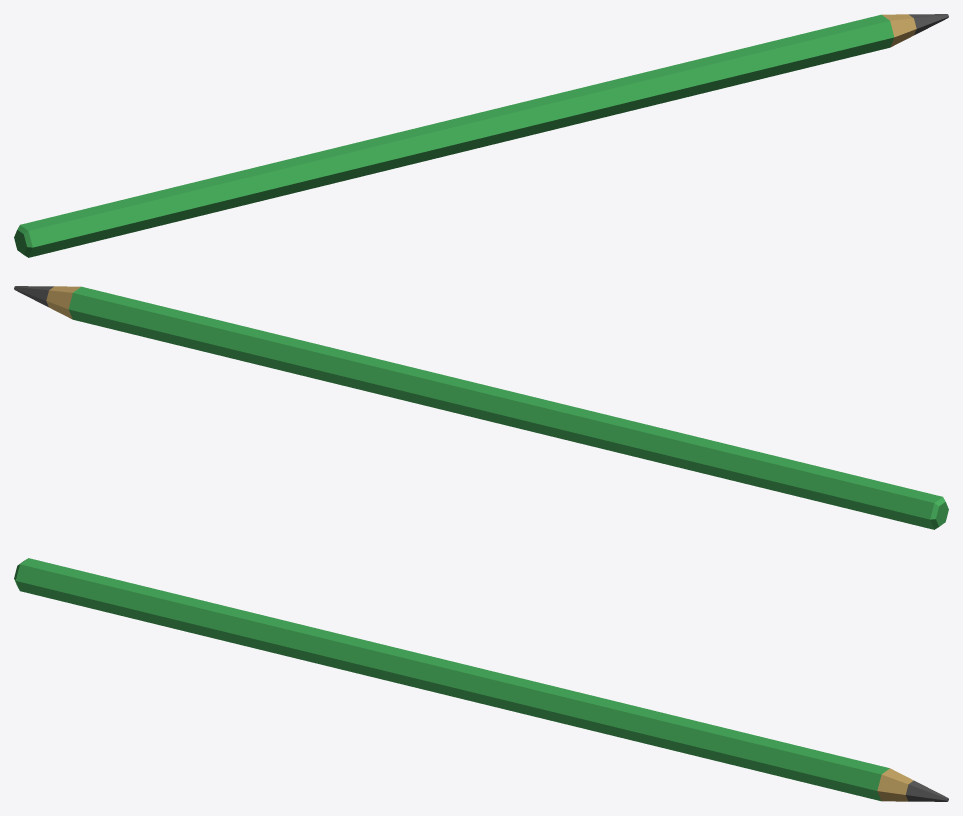
File: Blyant_Grøn.fbx
3 renders of one model, top to bottom at view 1: azimuth 30°, elevation 25°; view 2: azimuth 150°, elevation 25°; view 3: azimuth 330°, elevation 25°, orthographic.
Visible parts, largest first — view 1: Cylinder.008; view 2: Cylinder.008; view 3: Cylinder.008.
Part boxes in pixels (x1,y1,x2,y2): Cylinder.008: (14,14,948,257); Cylinder.008: (14,286,948,529); Cylinder.008: (14,558,948,801).
Size of the model in its own units: 32.67 by 0.9034 by 1.04.
